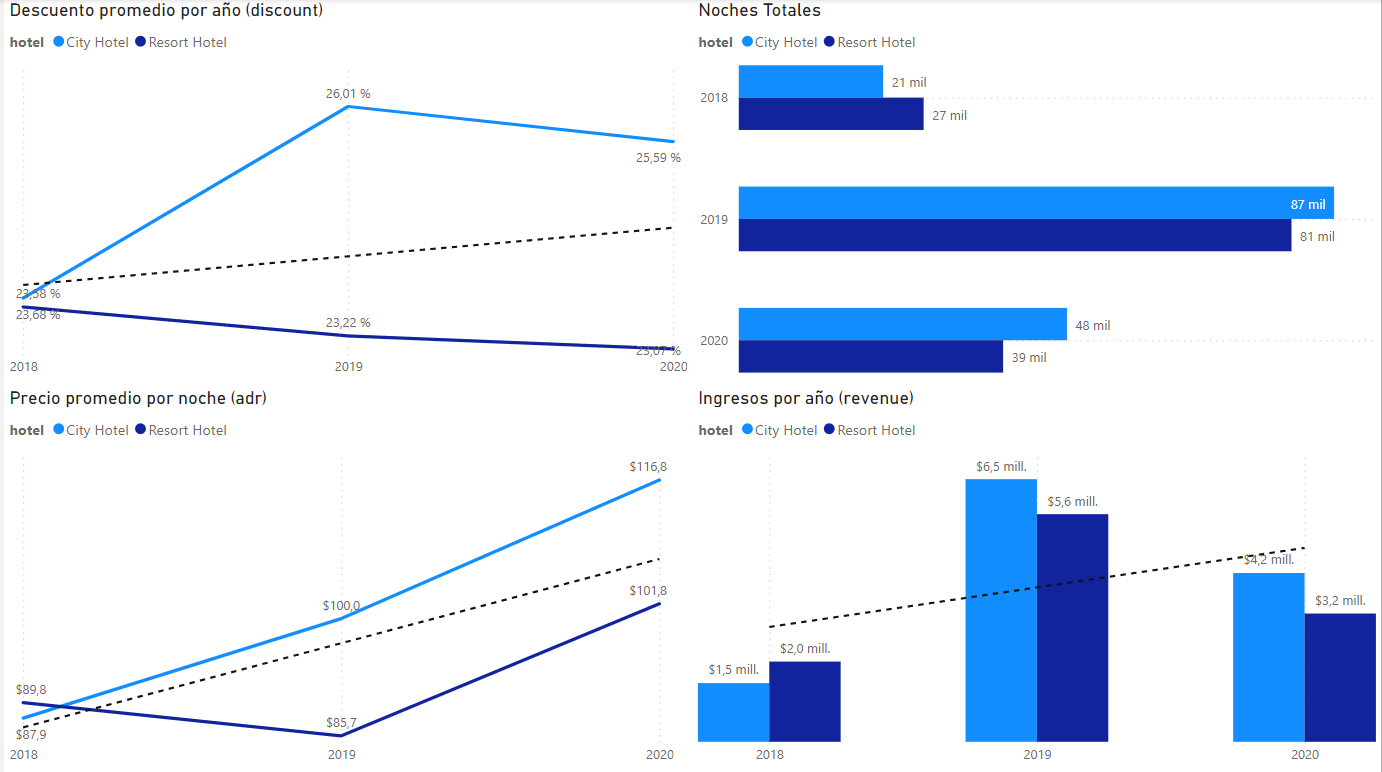

The page's visual inventory and layout, read from the dashboard file:
{"tool":"powerbi","page":{"name":"Trends","canvas":[1280,720],"ordinal":1},"visuals":[{"type":"clusteredColumnChart","title":"Ingresos por año (revenue)","fields":{"Category":["Consulta1.arrival_date_year"],"Y":["Sum(Consulta1.Revenue)"],"Series":["Consulta1.hotel"]},"box":[640.2,360.2,640.2,360.2],"z":0},{"type":"lineChart","title":"Precio promedio por noche (adr)","fields":{"Category":["Consulta1.arrival_date_year"],"Y":["Avg(Consulta1.adr)"],"Series":["Consulta1.hotel"]},"box":[0,360.2,627.5,360.2],"z":1},{"type":"lineChart","title":"Descuento promedio por año (discount)","fields":{"Category":["Consulta1.arrival_date_year"],"Series":["Consulta1.hotel"],"Y":["Avg(Consulta1.Discount)"]},"box":[0,0,640.2,360.2],"z":2},{"type":"clusteredBarChart","title":"Noches Totales","fields":{"Category":["Consulta1.arrival_date_year"],"Series":["Consulta1.hotel"],"Y":["Consulta1.Total Nights"]},"box":[640.2,0,640.2,360.2],"z":3}]}

Visuals, with their boxes in screenshot pixels (x1, y1, x2, y2), scaled from the page's 1280x720 canvas onto the 1382x772 screenshot:
"Ingresos por año (revenue)" clusteredColumnChart: [left=691, top=386, right=1381, bottom=771]
"Precio promedio por noche (adr)" lineChart: [left=0, top=386, right=678, bottom=771]
"Descuento promedio por año (discount)" lineChart: [left=0, top=0, right=691, bottom=386]
"Noches Totales" clusteredBarChart: [left=691, top=0, right=1381, bottom=386]
